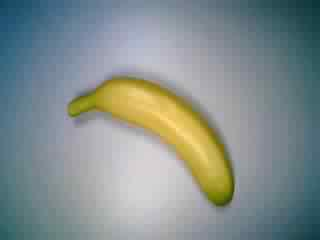banana: (62, 70, 243, 209)
